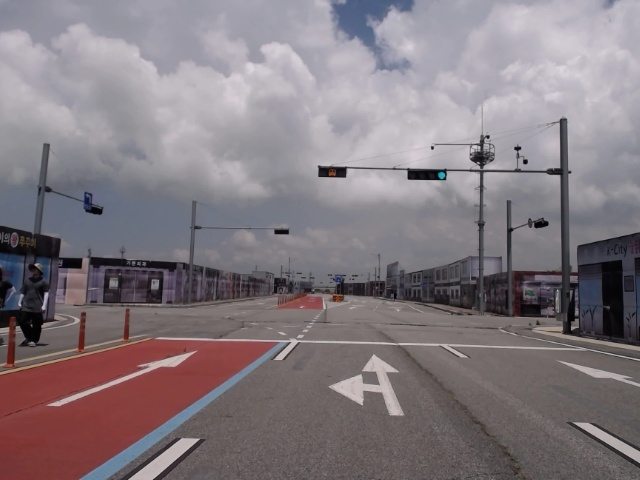straight_green_4: (407, 169, 447, 180)
